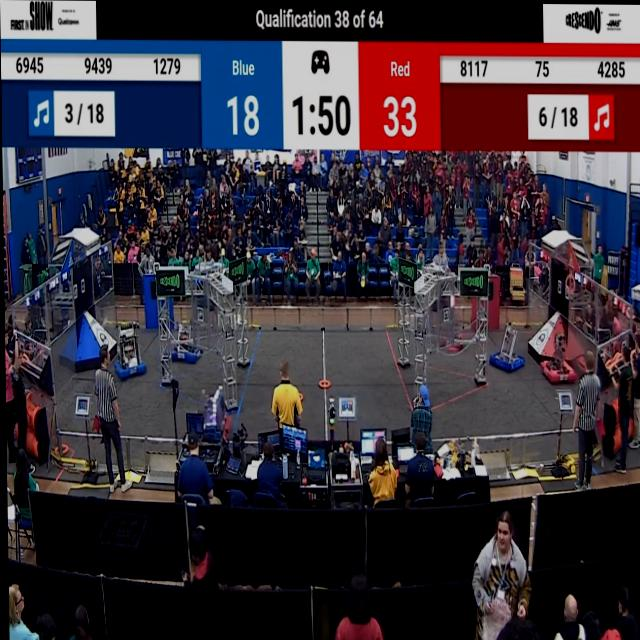Robot: (536, 318, 572, 388), (112, 322, 145, 383), (489, 319, 523, 378), (438, 291, 468, 355), (198, 381, 231, 438), (170, 310, 201, 366)
